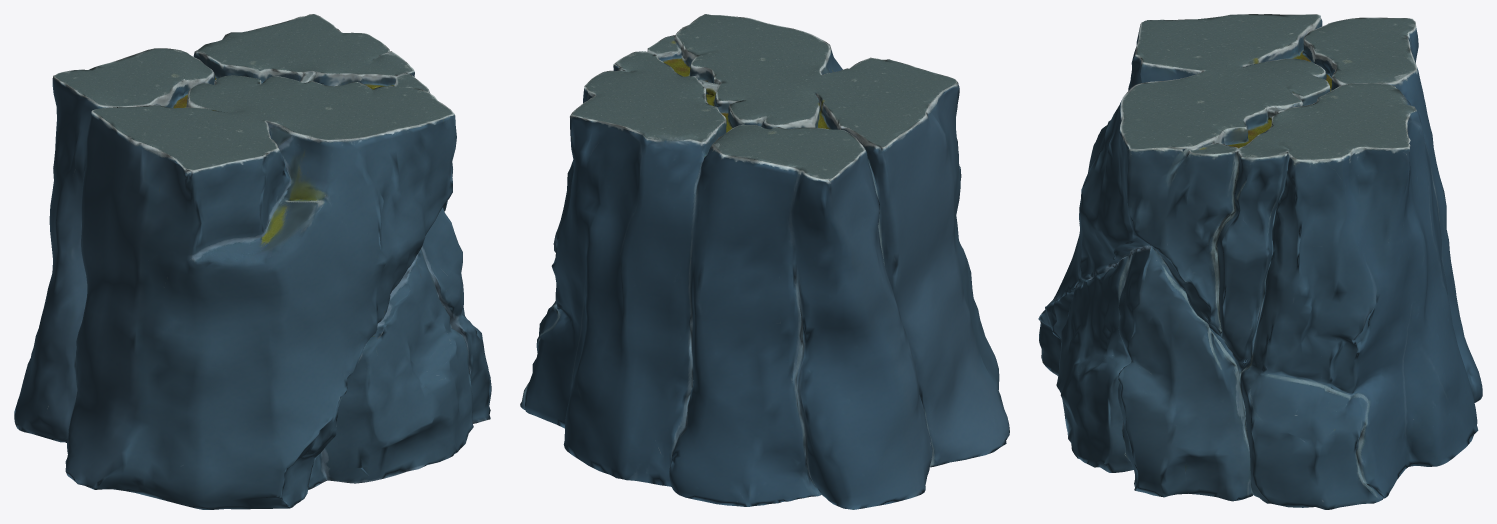
Rendered from Fjord_Cliff_Ledge_Module_Iter1842.fbx.
3 renders of one model, left to right at view 1: azimuth 30°, elevation 25°; view 2: azimuth 150°, elevation 25°; view 3: azimuth 270°, elevation 25°, orthographic.
Visible parts, largest first — view 1: Mesh_0; view 2: Mesh_0; view 3: Mesh_0.
Boxes of the visible parts, <box> form: Mesh_0: <box>14,14,491,509</box>; Mesh_0: <box>520,14,1009,509</box>; Mesh_0: <box>1038,14,1482,509</box>.
Bounding box in the file's own units: 95.21 × 70.56 × 86.62.
Materials: 1 (1 with a texture image).
